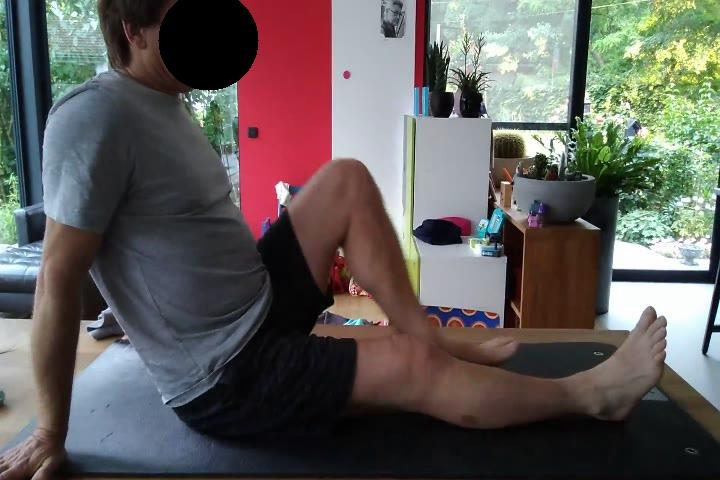lower_body: (172, 155, 670, 437)
